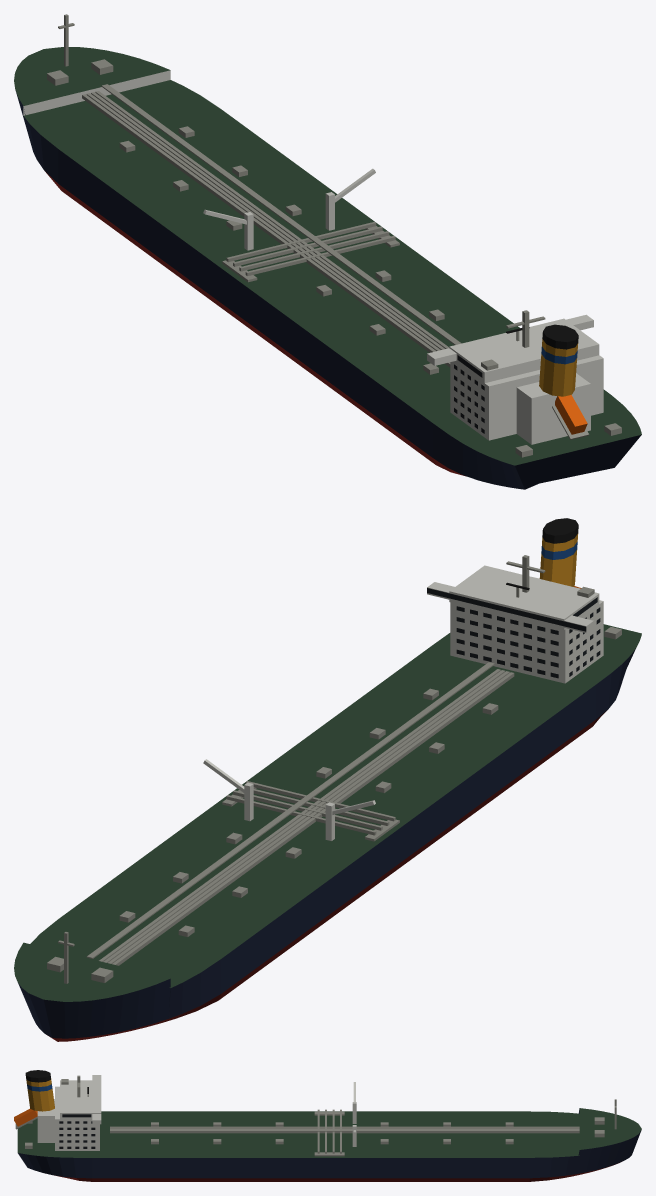
Rendered from ship_tanker.glb.
The picture shows the model from 3 angles, top to bottom: view 1: azimuth 30°, elevation 25°; view 2: azimuth 150°, elevation 25°; view 3: azimuth 270°, elevation 25°; orthographic projection. The views are drawn at different scales.
Parts seen in each view (by area): view 1: tanker_LOD0; view 2: tanker_LOD0; view 3: tanker_LOD0.
Boxes of the visible parts, x1,y1,x2,y2 form: tanker_LOD0: (14, 14, 641, 489); tanker_LOD0: (14, 518, 641, 1041); tanker_LOD0: (14, 1070, 641, 1181).
Size of what is drawn, in the model's own units: 46.16 by 37.8 by 251.
